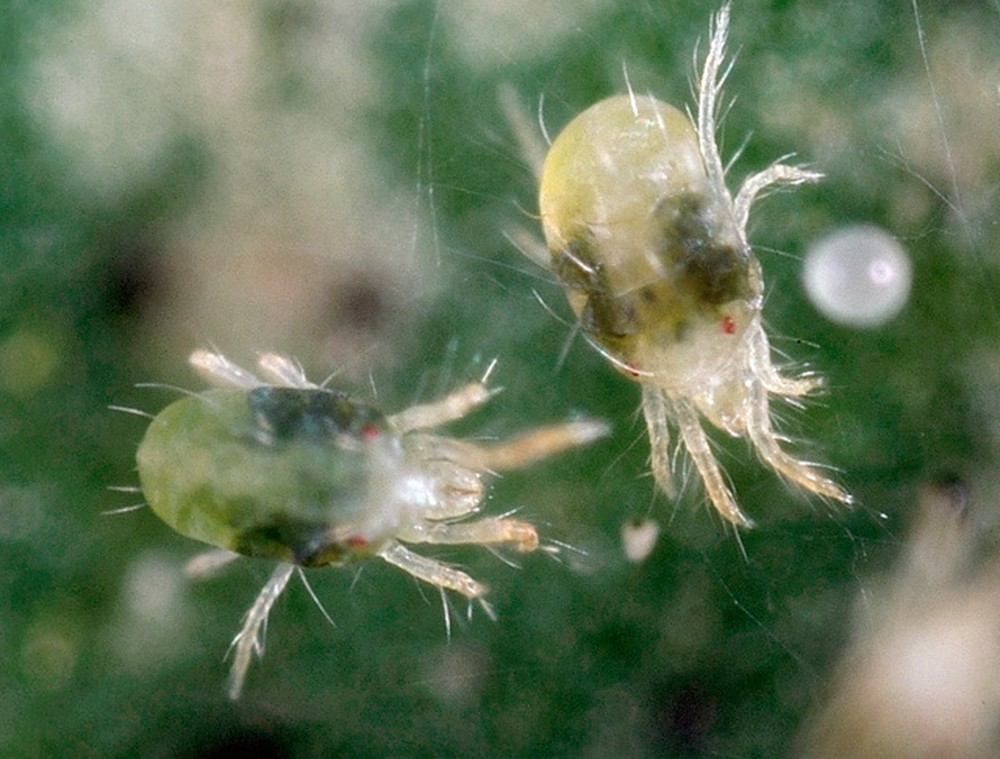Aracnido Rojo: (507, 54, 924, 556), (85, 339, 603, 687)
